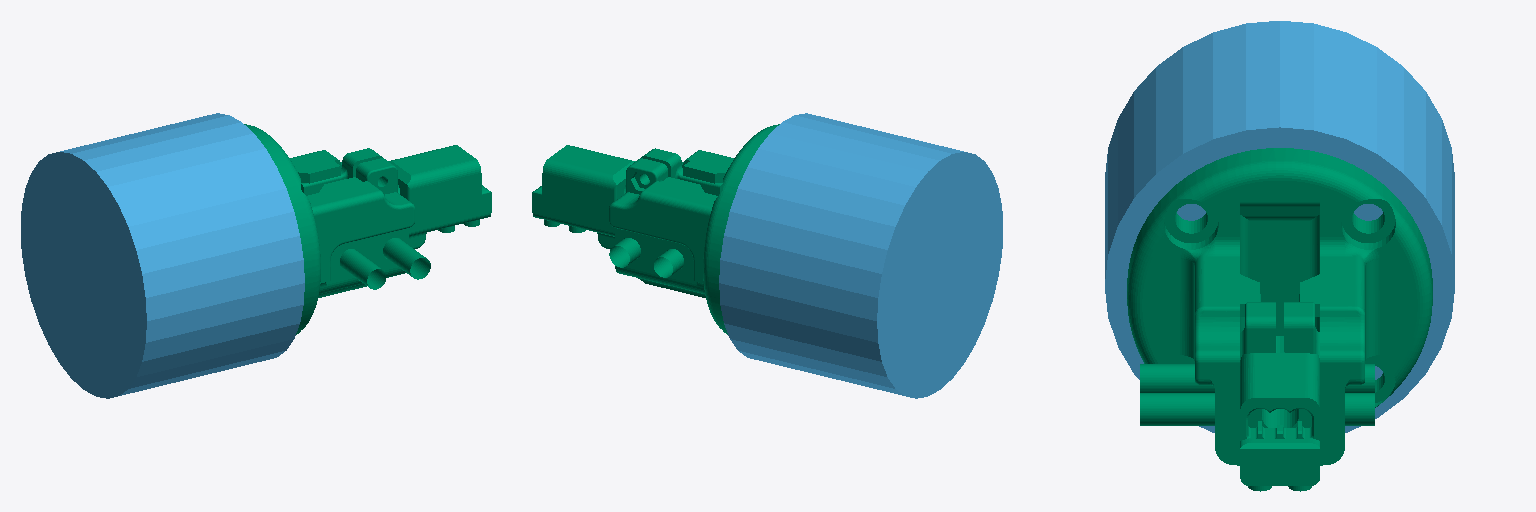
URDF robot description (Yaskawa_gp4):
<?xml version="1.0" encoding="utf-8"?>
<robot 
  name="Yaskawa_gp4" xmlns:xacro="http://ros.org/wiki/xacro"> 
  
  <link name = "world"/>

  <joint name = "world_fixed"
    type = "fixed">
    <parent link = "world" />
    <child link = "base" />
  </joint>

  <!-- ROS-Industrial 'base' frame: base_link to gp4 World Coordinates transform -->
    <link name="base" />
    <joint name="base_link-base" type="fixed">
      <origin xyz="0 0 0.0" rpy="0 0 0"/>
      <parent link="base"/>
      <child link="base_link"/>
    </joint>

    <!-- links: main serial chain -->
    <link name="base_link">
     <inertial>
      <origin
        xyz="-0.073983 0.00022734 0.13031"
        rpy="0 0 0" />
      <mass
        value="42.212" />
      <inertia
        ixx="0.64296"
        ixy="0.0012624"
        ixz="-0.068804"
        iyy="1.2709"
        iyz="-0.0010754"
        izz="1.3497" />
    </inertial>
      <visual>
        <geometry>
          <mesh filename="gp4/base_link.stl"/>
        </geometry>
      </visual>
      <collision>
        <geometry>
          <mesh filename="gp4/base_link.stl"/>
        </geometry>
      </collision>
    </link>
    <link name="link_1">
    <inertial>
      <origin
        xyz="0.058962 0.24363 -0.018725"
        rpy="0 0 0" />
      <mass
        value="37.265" />
      <inertia
        ixx="0.95018"
        ixy="-0.14402"
        ixz="-0.064915"
        iyy="1.0578"
        iyz="0.037699"
        izz="1.094" />
    </inertial>
      <visual>
        <geometry>
          <mesh filename="gp4/link_1.stl"/>
        </geometry>
      </visual>
      <collision>
        <geometry>
          <mesh filename="gp4/link_1.stl"/>
        </geometry>
      </collision>
    </link>
    <link name="link_2">
    <inertial>
      <origin
        xyz="3.5083E-05 0.39008 0.15036"
        rpy="0 0 0" />
      <mass
        value="22.632" />
      <inertia
        ixx="1.7745"
        ixy="-0.0054743"
        ixz="0.00063015"
        iyy="0.15511"
        iyz="-0.09224"
        izz="1.826" />
    </inertial>
      <visual>
        <geometry>
          <mesh filename="gp4/link_2.stl"/>
        </geometry>
      </visual>
      <collision>
        <geometry>
          <mesh filename="gp4/link_2.stl"/>
        </geometry>
      </collision>
    </link>
    <link name="link_3">
    <inertial>
      <origin
        xyz="0.086423 0.14427 -0.035793"
        rpy="0 0 0" />
      <mass
        value="28.467" />
      <inertia
        ixx="0.65771"
        ixy="-0.13627"
        ixz="-0.026219"
        iyy="0.52683"
        iyz="0.051956"
        izz="0.69722" />
    </inertial>
      <visual>
        <geometry>
          <mesh filename="gp4/link_3.stl"/>
        </geometry>
      </visual>
      <collision>
        <geometry>
          <mesh filename="gp4/link_3.stl"/>
        </geometry>
      </collision>
    </link>
    <link name="link_4">
    <inertial>
      <origin
        xyz="0.37337 0.00033491 0.012656"
        rpy="0 0 0" />
      <mass
        value="7.629" />
      <inertia
        ixx="0.018151"
        ixy="-0.00033527"
        ixz="-0.031589"
        iyy="0.48072"
        iyz="3.3917E-05"
        izz="0.47647" />
    </inertial>
      <visual>
        <geometry>
          <mesh filename="gp4/link_4.stl"/>
        </geometry>
      </visual>
      <collision>
        <geometry>
          <mesh filename="gp4/link_4.stl"/>
        </geometry>
      </collision>
    </link>
    <link name="link_5">
    <inertial>
      <origin
        xyz="0.062818 3.3289E-05 0.0048991"
        rpy="0 0 0" />
      <mass
        value="2.5794" />
      <inertia
        ixx="0.015161"
        ixy="-2.4835E-06"
        ixz="0.0016647"
        iyy="0.021382"
        iyz="-2.248E-06"
        izz="0.013473" />
    </inertial>
      <visual>
        <geometry>
          <mesh filename="gp4/link_5.stl"/>
        </geometry>
      </visual>
      <collision>
        <geometry>
          <mesh filename="gp4/link_5.stl"/>
        </geometry>
      </collision>
    </link>
    <link name="link_6">
    <inertial>
      <origin
        xyz="0.00015982 -0.00063018 -0.008266"
        rpy="0 0 0" />
      <mass
        value="0.10811" />
      <inertia
        ixx="9.0129E-05"
        ixy="-1.0891E-08"
        ixz="9.1598E-09"
        iyy="9.2026E-05"
        iyz="-2.749E-07"
        izz="0.00017818" />
    </inertial>
      <visual>
        <geometry>
          <mesh filename="gp4/link_6.stl"/>
        </geometry>
      </visual>
      <collision>
        <geometry>
          <mesh filename="gp4/link_6.stl"/>
        </geometry>
      </collision>
    </link>
    <link name="fts">
      <collision>
        <origin xyz="0 0 0" rpy=" 0 0 0"/>
        <geometry>
          <cylinder length="0.0505" radius="0.035"/>
        </geometry>
      </collision>
      <visual>
        <origin xyz="0 0 0" rpy="0 0 0"/>
        <geometry>
          <cylinder length="0.0505" radius="0.035"/>
        </geometry>
      </visual>
      <inertial>
        <mass value="1e-5" />
        <origin xyz="0 0 0" rpy="0 0 0"/>
        <inertia ixx="1e-6" ixy="0" ixz="0" iyy="1e-6" iyz="0" izz="1e-6" />
      </inertial>
    </link>
    <!-- <link name="link_mountplate">
    <inertial>
      <origin
        xyz="0 0 0"
        rpy="0 0 0" />
      <mass
        value="0.10811" />
      <inertia
        ixx="9.0129E-05"
        ixy="-1.0891E-08"
        ixz="9.1598E-09"
        iyy="9.2026E-05"
        iyz="-2.749E-07"
        izz="0.00017818" />
    </inertial>
      <visual>
        <origin xyz="0 0 0" rpy="0 0 0"/>
        <geometry>
          <mesh filename="eoat/D405_mount.stl"/>
        </geometry>
      </visual>
      <collision>
        <origin xyz="0 0 0" rpy="0 0 0"/>
        <geometry>
          <mesh filename="eoat/D405_mount.stl"/>
        </geometry>
      </collision>
    </link>
    <link name="link_precam">
      <inertial>
        <mass value="1e-5" />
        <origin xyz="0 0 0" rpy="0 0 0"/>
        <inertia ixx="1e-6" ixy="0" ixz="0" iyy="1e-6" iyz="0" izz="1e-6" />
      </inertial>
    </link>
    <link name="link_camera">
    <inertial>
      <origin
        xyz="0 0 0"
        rpy="0 0 0" />
      <mass
        value="0.10811" />
      <inertia
        ixx="9.0129E-05"
        ixy="-1.0891E-08"
        ixz="9.1598E-09"
        iyy="9.2026E-05"
        iyz="-2.749E-07"
        izz="0.00017818" />
    </inertial>
      <visual>
        <origin xyz="0 0 0" rpy="0 0 0"/>
        <geometry>
          <mesh filename="eoat/D405.stl"/>
        </geometry>
      </visual>
      <collision>
        <origin xyz="0 0 0" rpy="0 0 0"/>
        <geometry>
          <mesh filename="eoat/D405.stl"/>
        </geometry>
      </collision>
    </link>

    <link name="link_camera_origin">
    <visual>
      <origin xyz="0 0 0" rpy="0 0 0"/>
      <geometry>
        <box size="0.0001 0.002 0.001"/>
      </geometry>
    </visual>
      <inertial>
        <mass value="1e-5" />
        <origin xyz="0 0 0" rpy="0 0 0"/>
        <inertia ixx="1e-6" ixy="0" ixz="0" iyy="1e-6" iyz="0" izz="1e-6" />
      </inertial>
    </link> -->
    <link name="link_tool">
    <inertial>
      <origin
        xyz="0 0 0"
        rpy="0 0 0" />
      <mass
        value="0.10811" />
      <inertia
        ixx="9.0129E-05"
        ixy="-1.0891E-08"
        ixz="9.1598E-09"
        iyy="9.2026E-05"
        iyz="-2.749E-07"
        izz="0.00017818" />
    </inertial>
      <visual>
        <origin xyz="0 0 0" rpy="0 0 0"/>
        <geometry>
          <mesh filename="eoat/tool_with_cam_gen35.stl"/>
        </geometry>
      </visual>
      <collision>
        <geometry>
          <mesh filename="eoat/tool_with_cam_gen35.stl"/>
        </geometry>
      </collision>
    </link>

    <!-- joints: main serial chain -->
    <joint name="joint_1" type="revolute">
      <parent link="base_link"/>
      <child link="link_1"/>
      <origin xyz="0 0 0.330" rpy="0 0 0" />
      <axis xyz="0 0 1" />
      <limit effort="200" lower="-2.9670597283903604" upper="2.9670597283903604" velocity="2" />
    </joint>
    <joint name="joint_2" type="revolute">
      <parent link="link_1"/>
      <child link="link_2"/>
      <origin xyz="0 0 0" rpy="0 0 0" />
      <axis xyz="0 1 0" />
      <limit effort="200" lower="-1.9198621771937625" upper="2.2689280275926285" velocity="2" />
    </joint>
    <joint name="joint_3" type="revolute">
      <parent link="link_2"/>
      <child link="link_3"/>
      <origin xyz="0 0 0.260" rpy="0 0 0" />
      <axis xyz="0 -1 0" />
     <limit effort="200" lower="-1.1344640137963142" upper="3.490658503988659" velocity="2" />
    </joint>
    <joint name="joint_4" type="revolute">
      <parent link="link_3"/>
      <child link="link_4"/>
      <origin xyz="0.290 0 0.015" rpy="0 0 0" />
      <axis xyz="-1 0 0" />
      <limit effort="200" lower="-3.490658503988659" upper="3.490658503988659" velocity="2" />
    </joint>
    <joint name="joint_5" type="revolute">
      <parent link="link_4"/>
      <child link="link_5"/>
      <origin xyz="0 0 0" rpy="0 0 0" />
      <axis xyz="0 -1 0" />
		<limit effort="200" lower="-1.98968" upper="1.98968" velocity="2"></limit>
    </joint>
    <joint name="joint_6" type="revolute">
      <parent link="link_5"/>
      <child link="link_6"/>
      <origin xyz="0 0 0" rpy="0 0 0" />
      <axis xyz="-1 0 0" />
      <limit effort="200" lower="-7.941248096574199" upper="7.941248096574199" velocity="2" />
    </joint>

    <link name="flange"/>
    <joint name="joint_6_t-flange" type="fixed">
      <origin xyz="0.072 0 0" rpy="0 0 0"/>
      <parent link="link_6"/>
      <child link="flange"/>
    </joint>

    <joint name="link_6_fts" type="fixed">
      <origin rpy="0 1.5707963267948966 0" xyz="0.02525 0 0"/>
      <parent link="flange" />
      <child link="fts" />
    </joint>

    <!-- <joint name="fts_plate" type="revolute">
      <origin xyz="0 0 ${0.0505/2+0.00001}" rpy="${pi/2.0} 0 0" />
      <parent link="fts" />
      <child link="link_mountplate" />
      <axis xyz="0 0 1" />
      <limit velocity="0" effort="0" lower="0" upper="0" />
    </joint>
    <joint name="plate_precam" type="fixed">
      <origin xyz="0 0 0" rpy="-${pi/2.0} 0  0" />
      <parent link="link_mountplate" />
      <child link="link_precam" />
    </joint>
    <joint name="precam_camera" type="fixed">
      <origin xyz="0 0.053512 ${0.00254+0.023+0.00001}" rpy="0  0  0" />
      <parent link="link_precam" />
      <child link="link_camera" />
    </joint>
    <joint name="camera_imgplane" type="fixed">
      <origin xyz="0.009 0 0" rpy="0 ${pi/2 + pi} -${pi/2}" />
      <parent link="link_camera" />
      <child link="link_camera_origin" />
    </joint> -->
    <joint name="fts_tool" type="fixed">
      <!-- <origin xyz="0 0 ${0.0505/2 + 0.00254}" rpy="0 0 ${pi}" /> -->
      <origin rpy="0 0 3.141592653589793" xyz="0 0 0.02525"/>
      <parent link="fts" />
      <child link="link_tool" />
    </joint>

 
</robot>

--- Facts derived from the render (not from the file) ---
The picture shows the robot from 3 angles, left to right: view 1: azimuth 30°, elevation 25°; view 2: azimuth 150°, elevation 25°; view 3: azimuth 270°, elevation 25°; orthographic projection.
Robot: Yaskawa_gp4 — 12 links, 11 joints (6 revolute, 5 fixed); root link world; default pose: all joints at 0.
Visible links, largest first — view 1: fts, link_tool; view 2: fts, link_tool; view 3: link_tool, fts.
Boxes of the visible links, left/top/right/bottom form: fts: left=21, top=113, right=304, bottom=398; link_tool: left=244, top=124, right=491, bottom=334; fts: left=719, top=113, right=1002, bottom=398; link_tool: left=532, top=124, right=779, bottom=334; link_tool: left=1127, top=148, right=1432, bottom=491; fts: left=1105, top=21, right=1454, bottom=432.
Size in the robot's own frame: 0.1257 by 0.07 by 0.07 metres.
Meshes: 8 distinct files referenced, 1 mesh visuals loaded (1 binary STL); not drawn: 7 (reference not matched to a file when rendering).